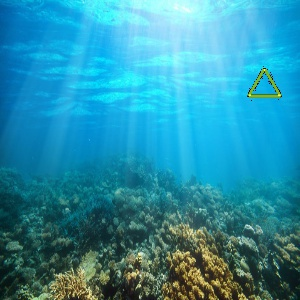triangle: (246, 65, 283, 99)
